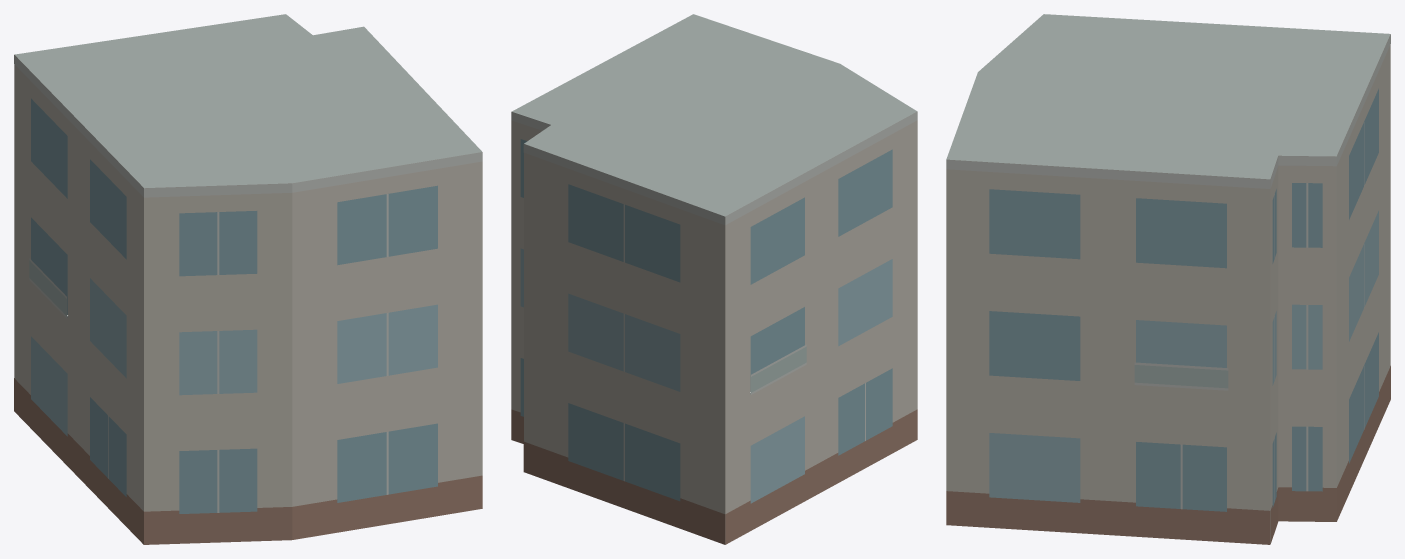
File: survey-upis-33041737.glb
3 renders of one model, left to right at view 1: azimuth 30°, elevation 25°; view 2: azimuth 150°, elevation 25°; view 3: azimuth 270°, elevation 25°, orthographic. The views are drawn at different scales.
Visible parts, largest first — view 1: survey-upis-33041737.tmp; view 2: survey-upis-33041737.tmp; view 3: survey-upis-33041737.tmp.
Boxes of the visible parts, x1,y1,x2,y2 form: survey-upis-33041737.tmp: (14,14,482,544); survey-upis-33041737.tmp: (511,14,917,544); survey-upis-33041737.tmp: (946,14,1390,544).
Size of the model in its own units: 8.89 by 9.15 by 10.1.
